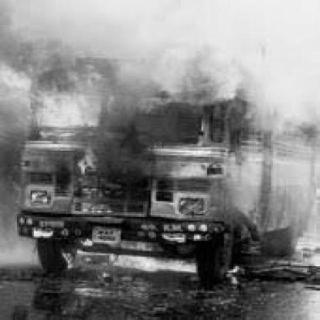Fire: (1, 29, 241, 302)
